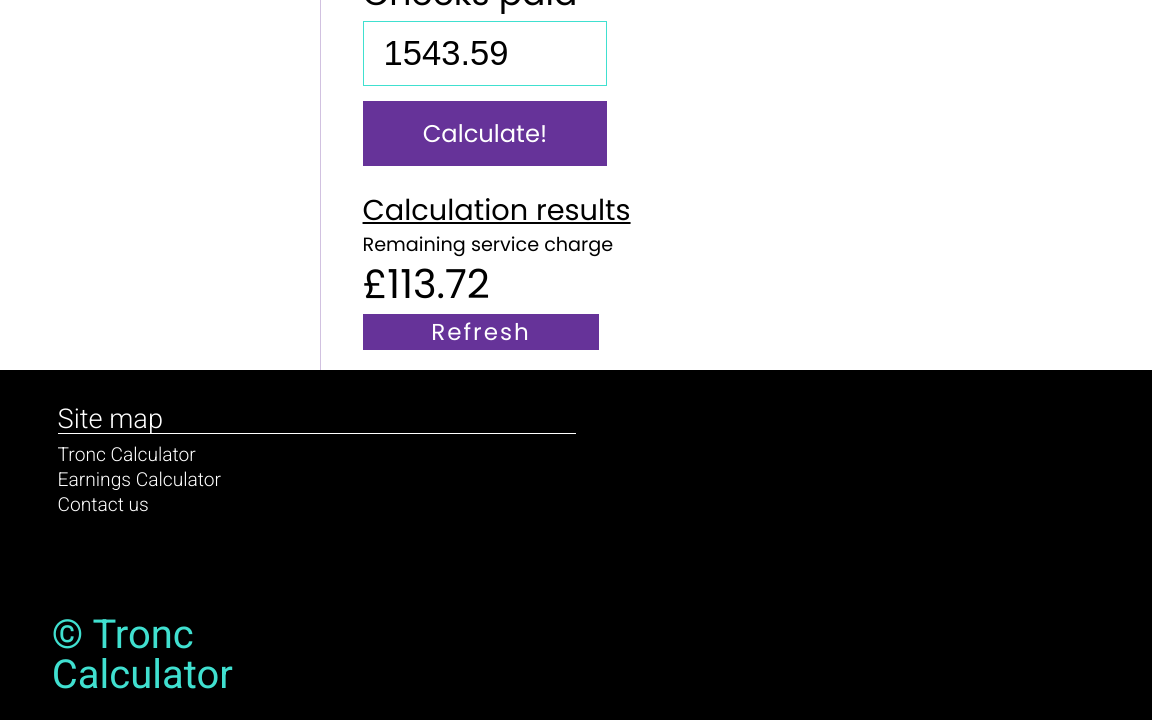
it: Visits the website, chooses tronc calculator, return results and refreshes › clicks refresh and removes the results component
This screenshot has width=1152, height=720.
(page scrolled)
Click the button with test id "reset-page": click(482, 332) [363,314,600,350]
(page scrolled)
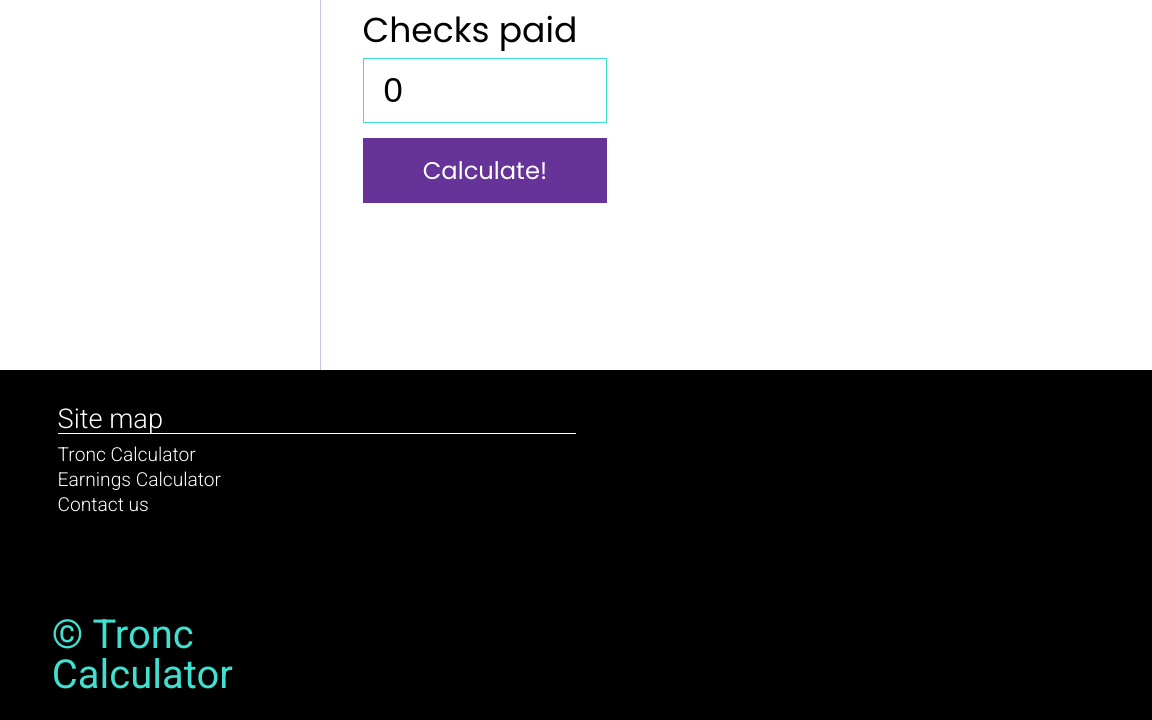
Result: the text with test id "remaining-service" is gone
